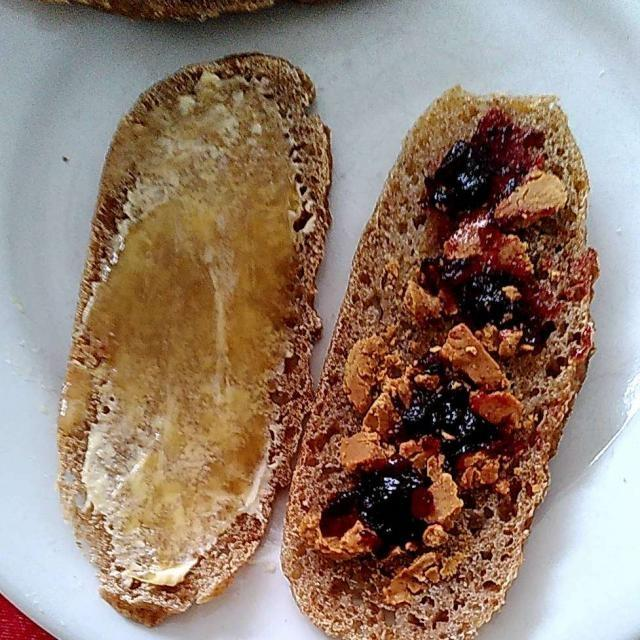bread: (61, 50, 597, 634)
honey: (76, 93, 299, 514)
jam: (350, 138, 525, 538)
margarine: (78, 395, 272, 584)
peanut-butter: (333, 168, 566, 565)
